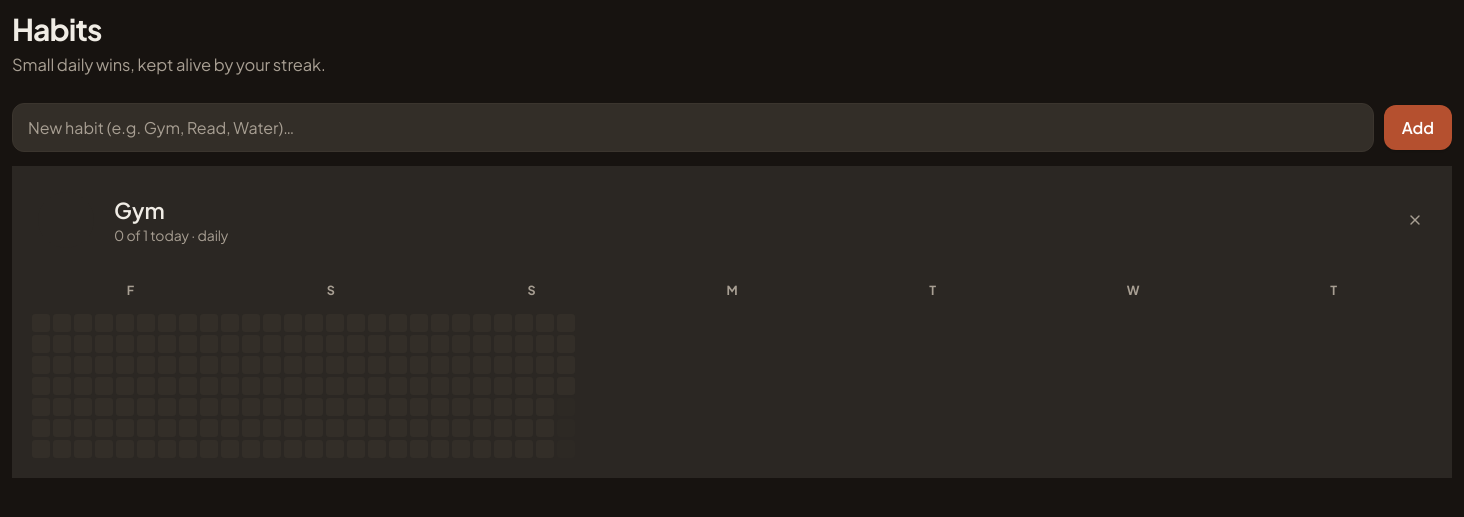
Test: duplicate habit names › warns on a case-insensitive duplicate without creating anything
The width and height of the screenshot is (1464, 517).
Expected: the button named "Edit habit \"Gym\"" is shown, [114,196,165,224]
Type "gym" into the field named "New habit name" at (693, 127), box [12,102,1374,152]
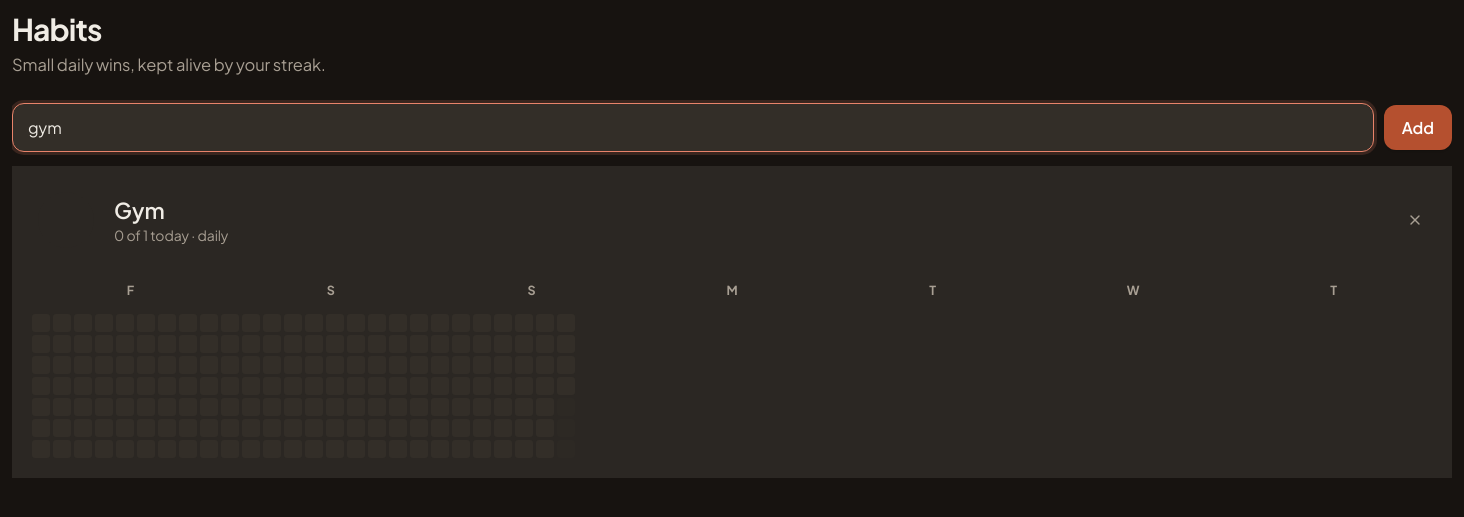
Click the button "Add" at (1418, 127), box [1384,104,1452,150]
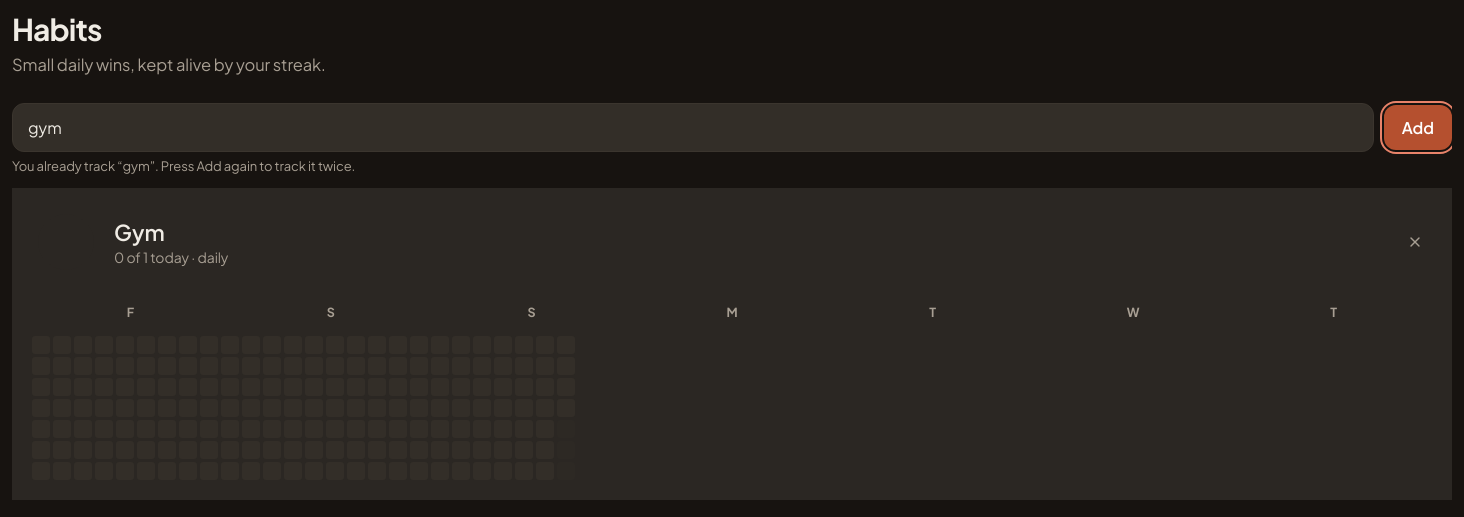
Result: the message shows "already track" at [12,158,123,174]
